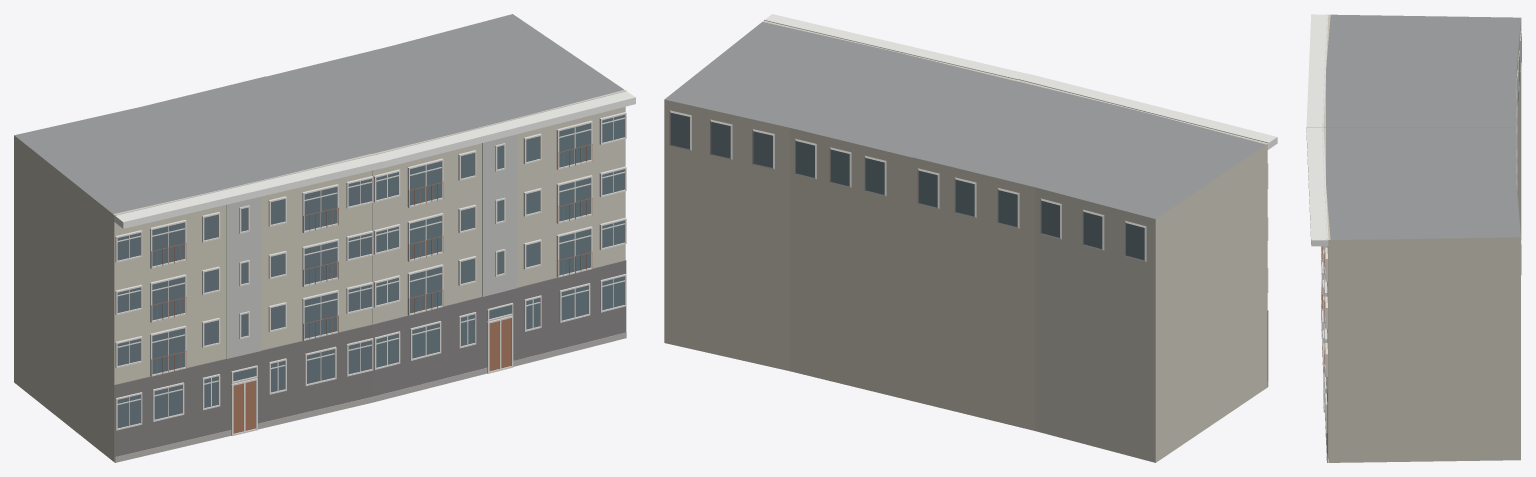
Rendered from chunk-face-tugelaweg-113-120-r1.glb.
The picture shows the model from 3 angles, left to right: view 1: azimuth 30°, elevation 25°; view 2: azimuth 150°, elevation 25°; view 3: azimuth 270°, elevation 25°; orthographic projection. The views are drawn at different scales.
Parts seen in each view (by area): view 1: face-tugelaweg-113-120-r1; view 2: face-tugelaweg-113-120-r1; view 3: face-tugelaweg-113-120-r1.
Boxes of the visible parts, x1=… form: face-tugelaweg-113-120-r1: x1=14, y1=14, x2=635, y2=462; face-tugelaweg-113-120-r1: x1=664, y1=14, x2=1277, y2=462; face-tugelaweg-113-120-r1: x1=1306, y1=14, x2=1521, y2=462.
Bounding box in the file's own units: 28.08 × 12.98 × 11.31.
